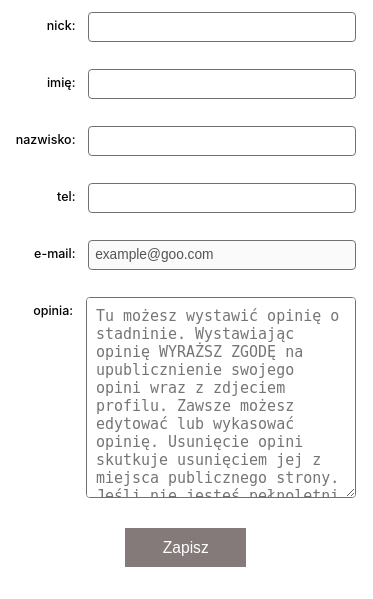
Test: Edit profile check error message › no data last name only tab should show error after focus
Click the field with test id "inputEditFormProfileLastName" at (222, 141), box [88,126,356,156]
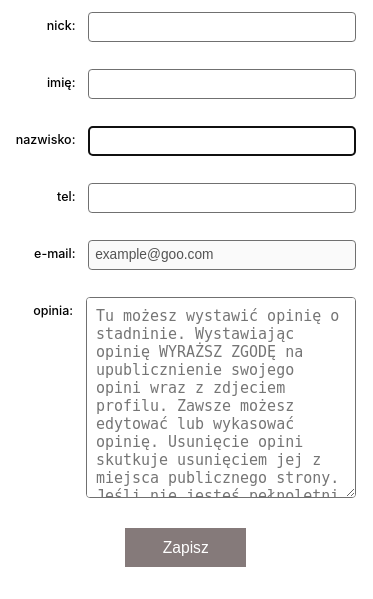
Press Tab
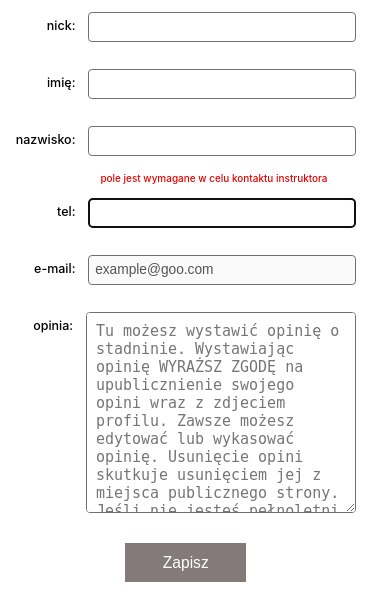
Check: the text with test id "errorEditFormProfileLastName" reads "pole jest wymagane w celu kontaktu instruktora", box [100,172,328,184]
